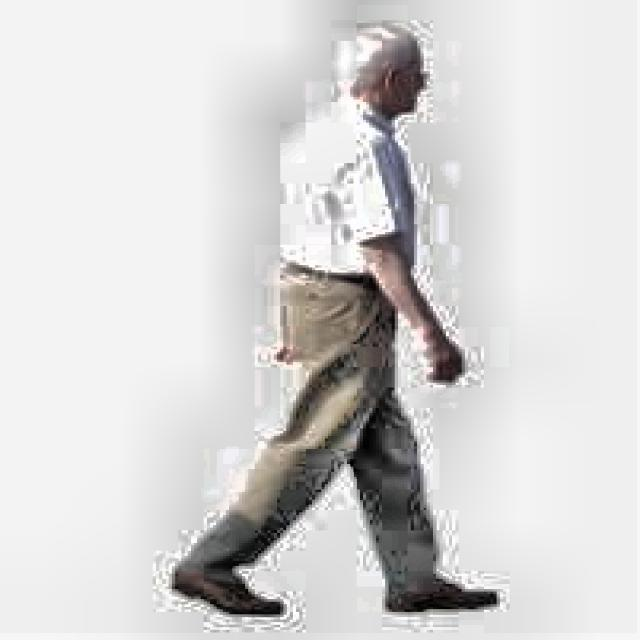Human: (182, 30, 527, 610)
